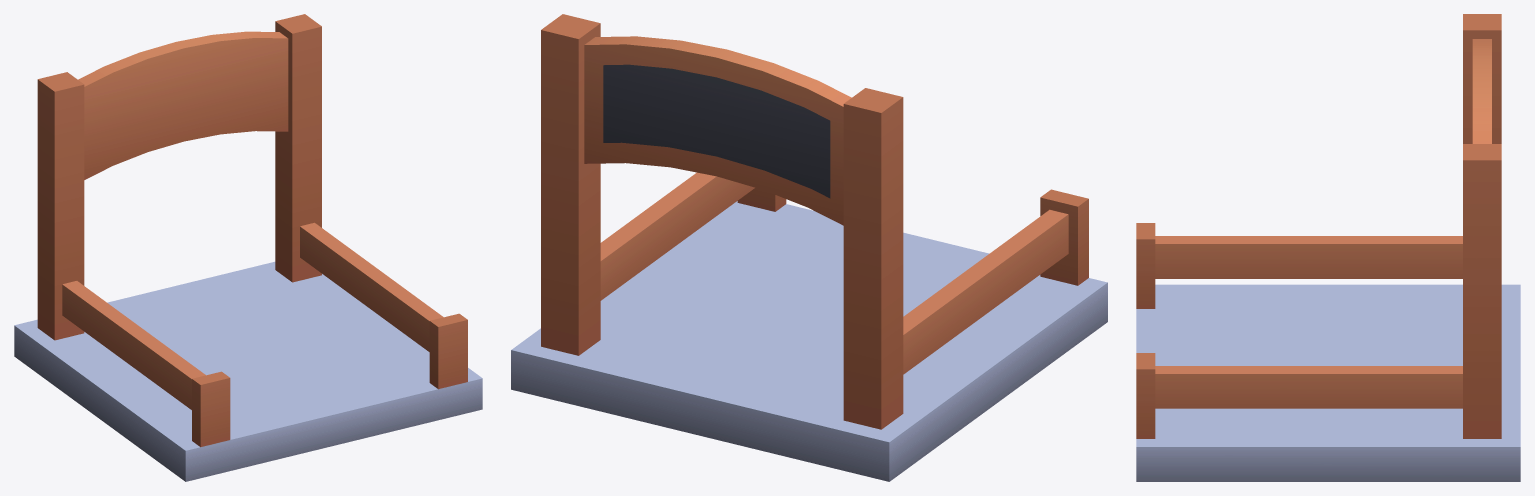
Rendered from path-exit.glb.
3 views of the same model, side by side, from view 1: azimuth 30°, elevation 25°; view 2: azimuth 150°, elevation 25°; view 3: azimuth 270°, elevation 25° (orthographic). The views are drawn at different scales.
Visible parts, largest first — view 1: path-exit; view 2: path-exit; view 3: path-exit.
Boxes of the visible parts, left/top/right/bottom form: path-exit: left=14, top=14, right=482, bottom=481; path-exit: left=511, top=14, right=1107, bottom=481; path-exit: left=1136, top=14, right=1520, bottom=481.
Size of the model in its own units: 1 by 0.925 by 1.
Materials: 1 (1 with a texture image).
